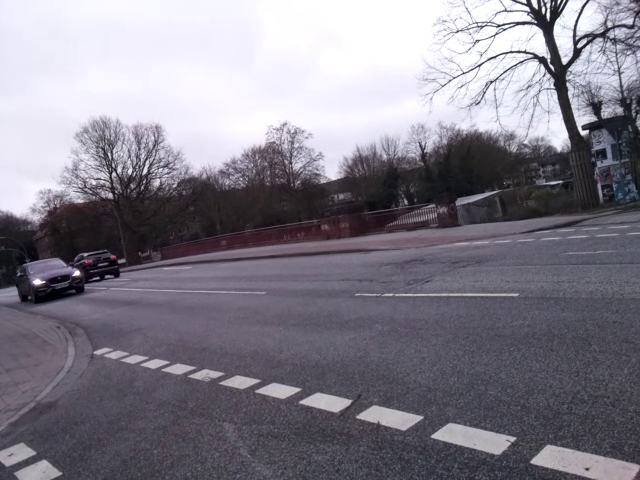car: (14, 244, 85, 313)
